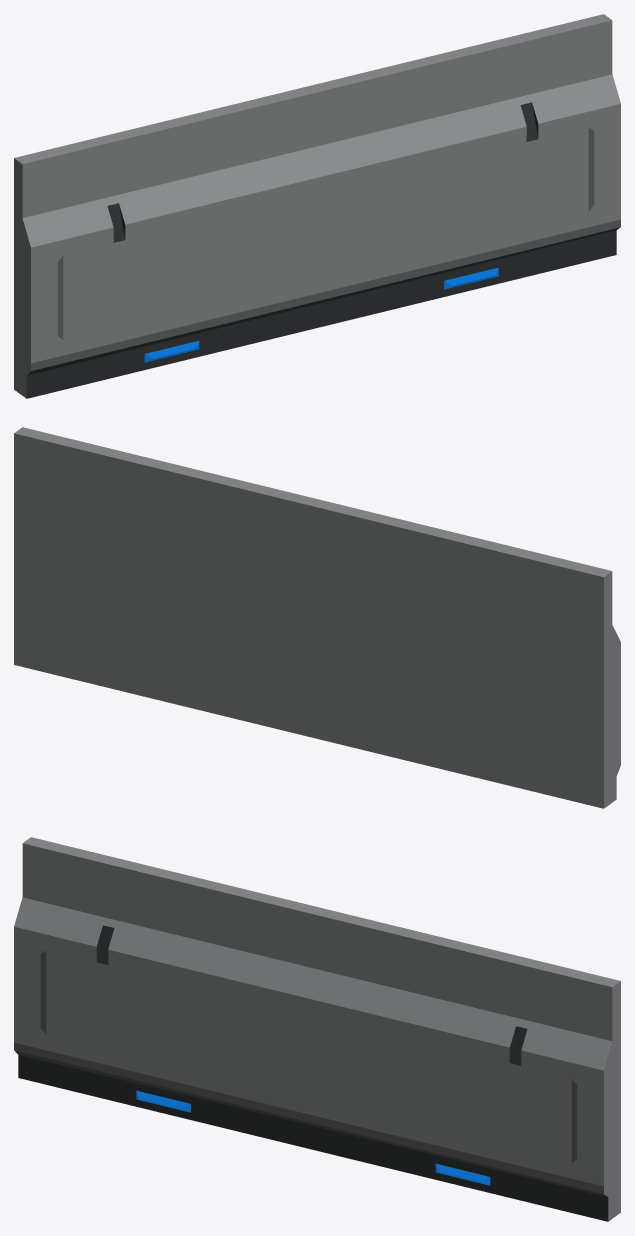
File: Wall_type_B_038.glb
The picture shows the model from 3 angles, top to bottom: view 1: azimuth 30°, elevation 25°; view 2: azimuth 150°, elevation 25°; view 3: azimuth 330°, elevation 25°; orthographic projection.
Visible parts, largest first — view 1: Wall_type_B_038; view 2: Wall_type_B_038; view 3: Wall_type_B_038.
Boxes of the visible parts, x1,y1,x2,y2 form: Wall_type_B_038: [14, 14, 620, 398]; Wall_type_B_038: [14, 427, 620, 808]; Wall_type_B_038: [14, 837, 620, 1221].
Bounding box in the file's own units: 4 × 1.5 × 0.2.
2 materials, 2 textured.
